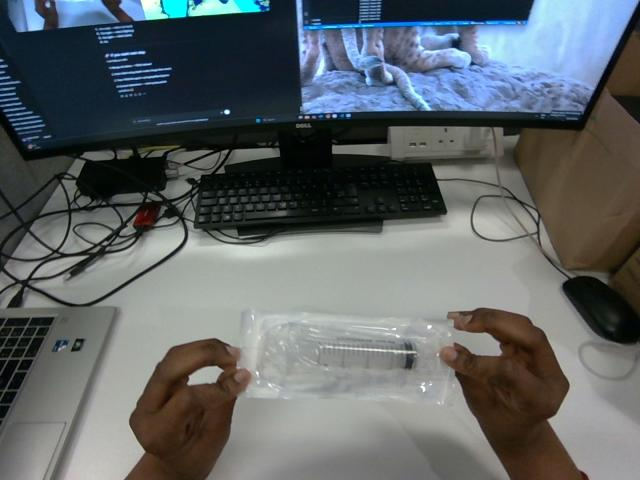syringe: (238, 310, 454, 403)
